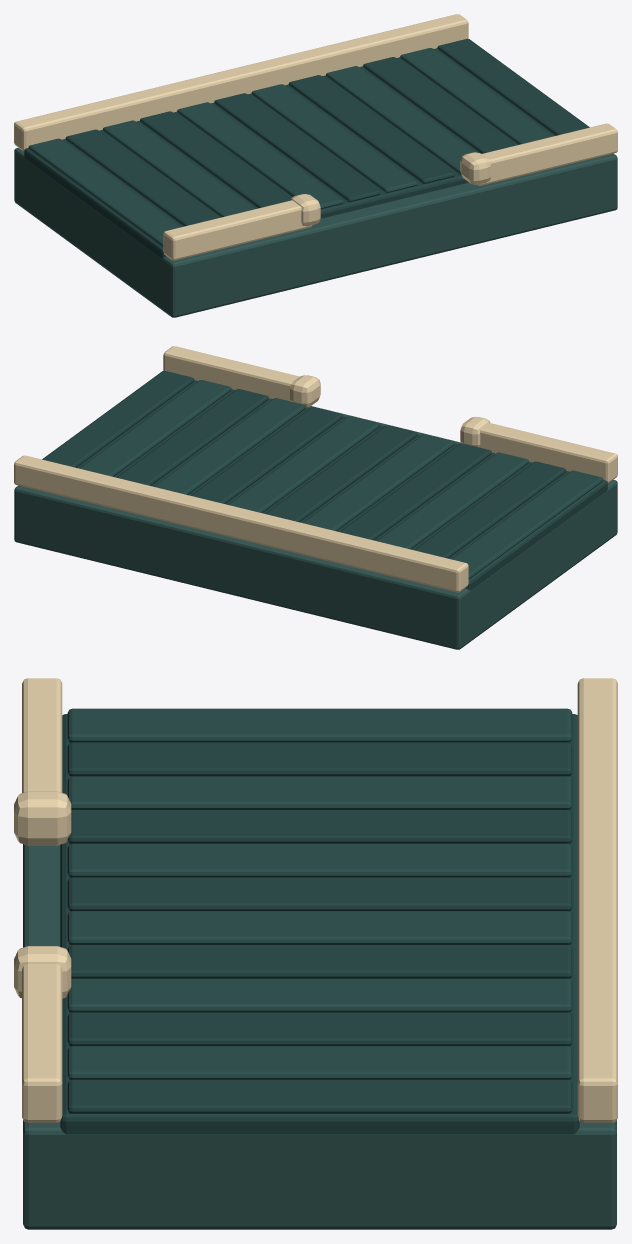
Rendered from Belt_SidePort_Right.fbx.
The picture shows the model from 3 angles, top to bottom: view 1: azimuth 30°, elevation 25°; view 2: azimuth 150°, elevation 25°; view 3: azimuth 270°, elevation 25°; orthographic projection. The views are drawn at different scales.
Visible parts, largest first — view 1: Body, Slats, BeltSurface; view 2: Body, Slats, BeltSurface; view 3: Slats, Body, BeltSurface.
Boxes of the visible parts, x1,y1,x2,y2 form: Body: (14,14,617,317); Slats: (28,38,589,246); BeltSurface: (24,48,555,258); Body: (14,346,617,649); Slats: (42,370,603,578); BeltSurface: (76,380,607,590); Slats: (67,708,572,1113); Body: (14,678,617,1229); BeltSurface: (60,714,579,1134).
Bounding box in the file's own units: 2 × 0.3605 × 1.26.
